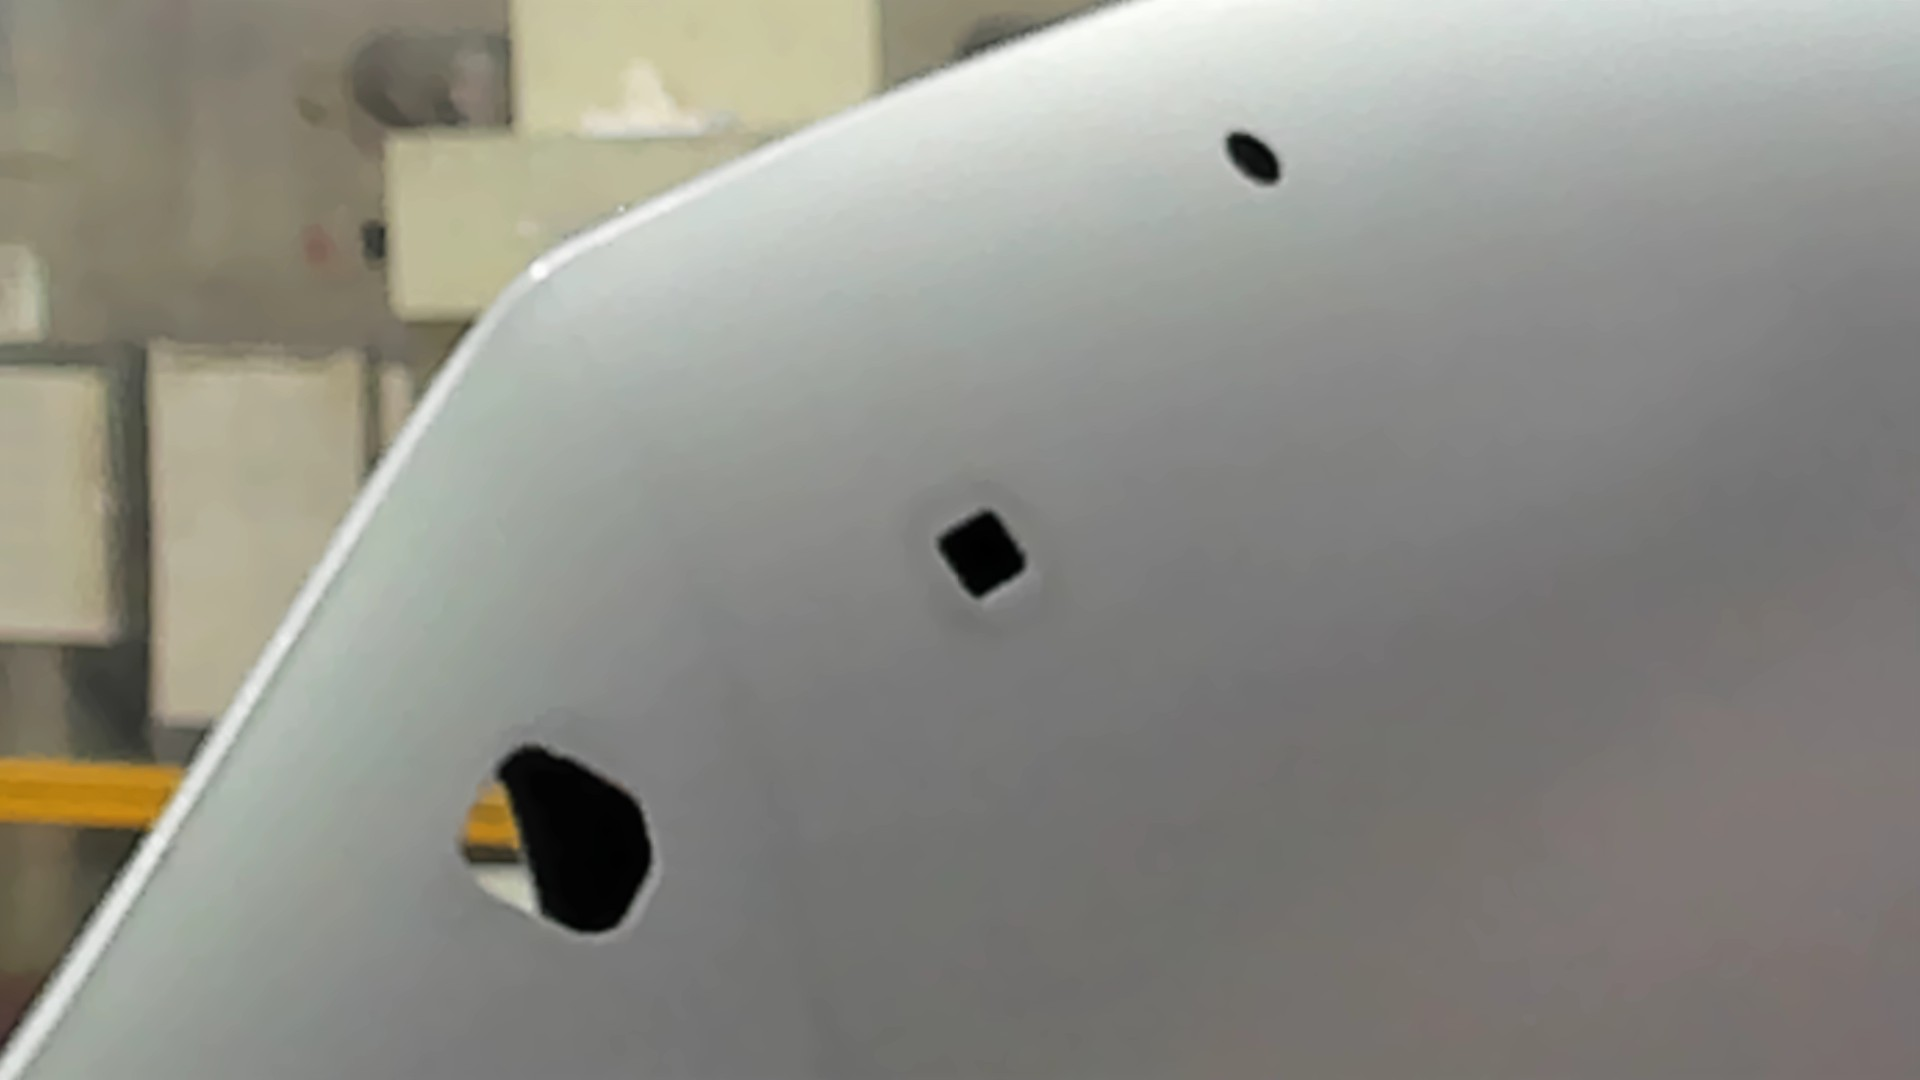chico: (1220, 127, 1291, 196)
grande: (452, 737, 663, 949)
mediano: (927, 500, 1033, 604)
